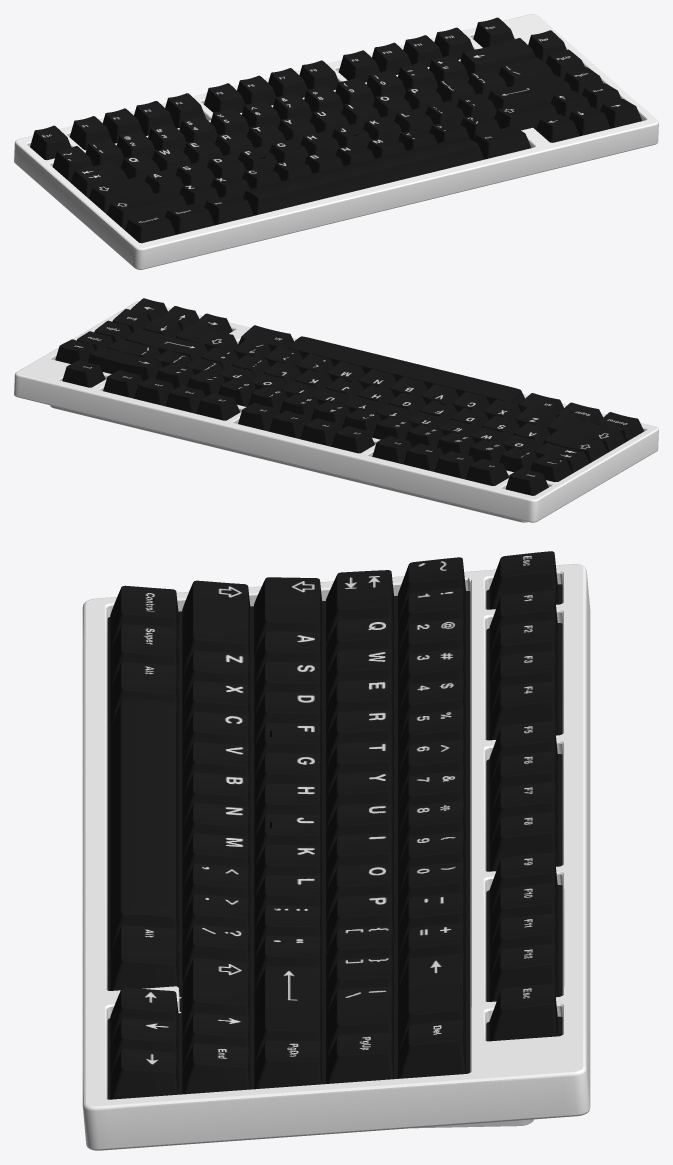
File: keyboard.glb
3 renders of one model, top to bottom at view 1: azimuth 30°, elevation 25°; view 2: azimuth 150°, elevation 25°; view 3: azimuth 270°, elevation 25°, orthographic. The views are drawn at different scales.
Parts seen in each view (by area): view 1: KeysInner, KeysOuter, CaseUpper; view 2: KeysInner, CaseUpper, KeysOuter, CaseLower; view 3: KeysInner, KeysOuter, CaseUpper, CaseUpperInner.
Part boxes in pixels (x1,y1,x2,y2): KeysInner: (69, 27, 553, 215); KeysOuter: (30, 17, 641, 243); CaseUpper: (14, 14, 658, 269); KeysInner: (103, 336, 552, 485); CaseUpper: (14, 301, 658, 522); KeysOuter: (55, 298, 643, 495); CaseLower: (50, 405, 527, 522); KeysInner: (110, 587, 557, 1059); KeysOuter: (110, 551, 557, 1099); CaseUpper: (82, 564, 590, 1150); CaseUpperInner: (107, 584, 562, 1099).
Size of what is drawn, in the model's own units: 0.3191 by 0.0315 by 0.134.
4 materials, 1 textured.
